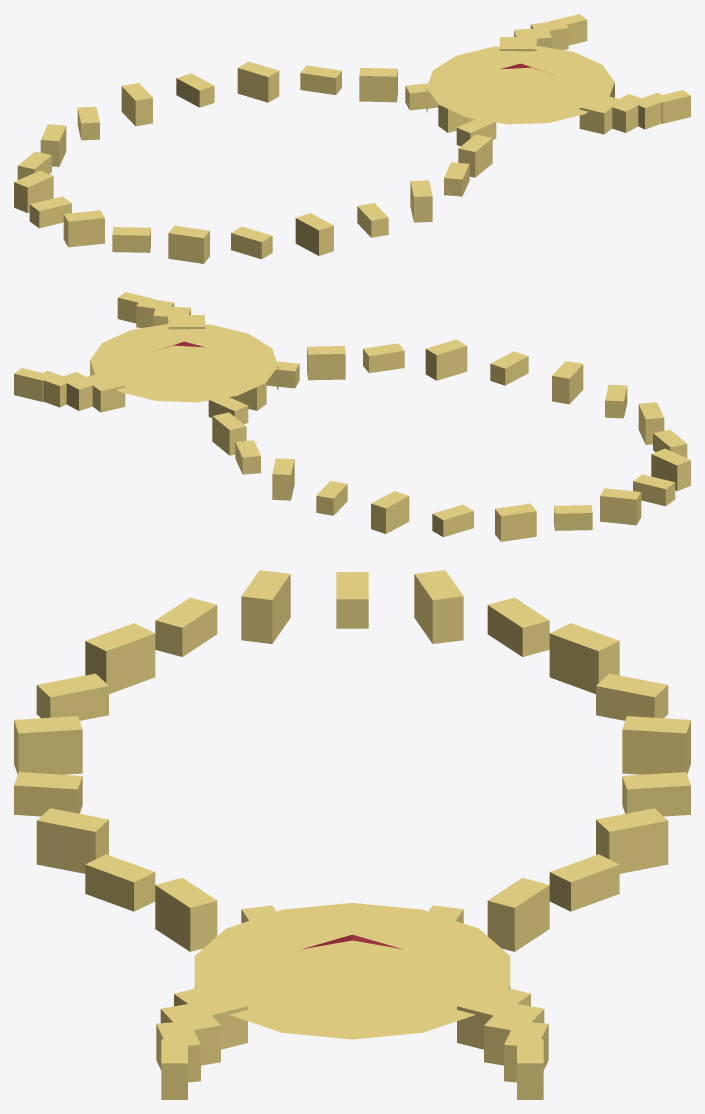
File: gargoyle-schmuck.glb
3 renders of one model, top to bottom at view 1: azimuth 30°, elevation 25°; view 2: azimuth 150°, elevation 25°; view 3: azimuth 270°, elevation 25°, orthographic. The views are drawn at different scales.
Visible parts, largest first — view 1: gargoyle-schmuck; view 2: gargoyle-schmuck; view 3: gargoyle-schmuck.
Boxes of the visible parts, bbox=[...] form: gargoyle-schmuck: bbox=[14, 14, 690, 263]; gargoyle-schmuck: bbox=[14, 292, 690, 541]; gargoyle-schmuck: bbox=[14, 570, 690, 1099].
Size of the model in its own units: 0.147 by 0.011 by 0.0837.
